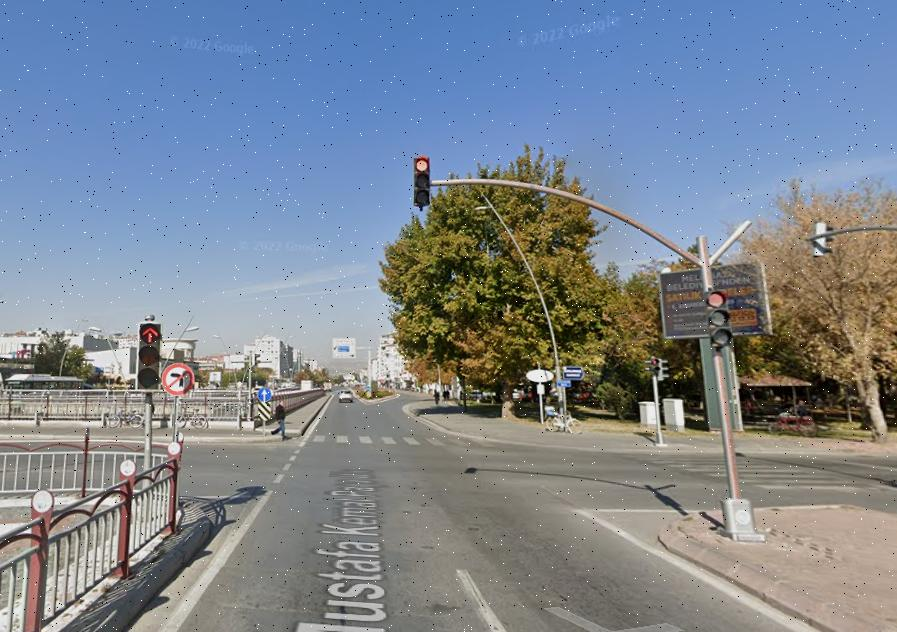forward: (258, 387, 272, 402)
leftturnsareforbidden: (163, 363, 194, 395)
redlight: (139, 322, 163, 391), (705, 290, 729, 349), (413, 156, 431, 207)
